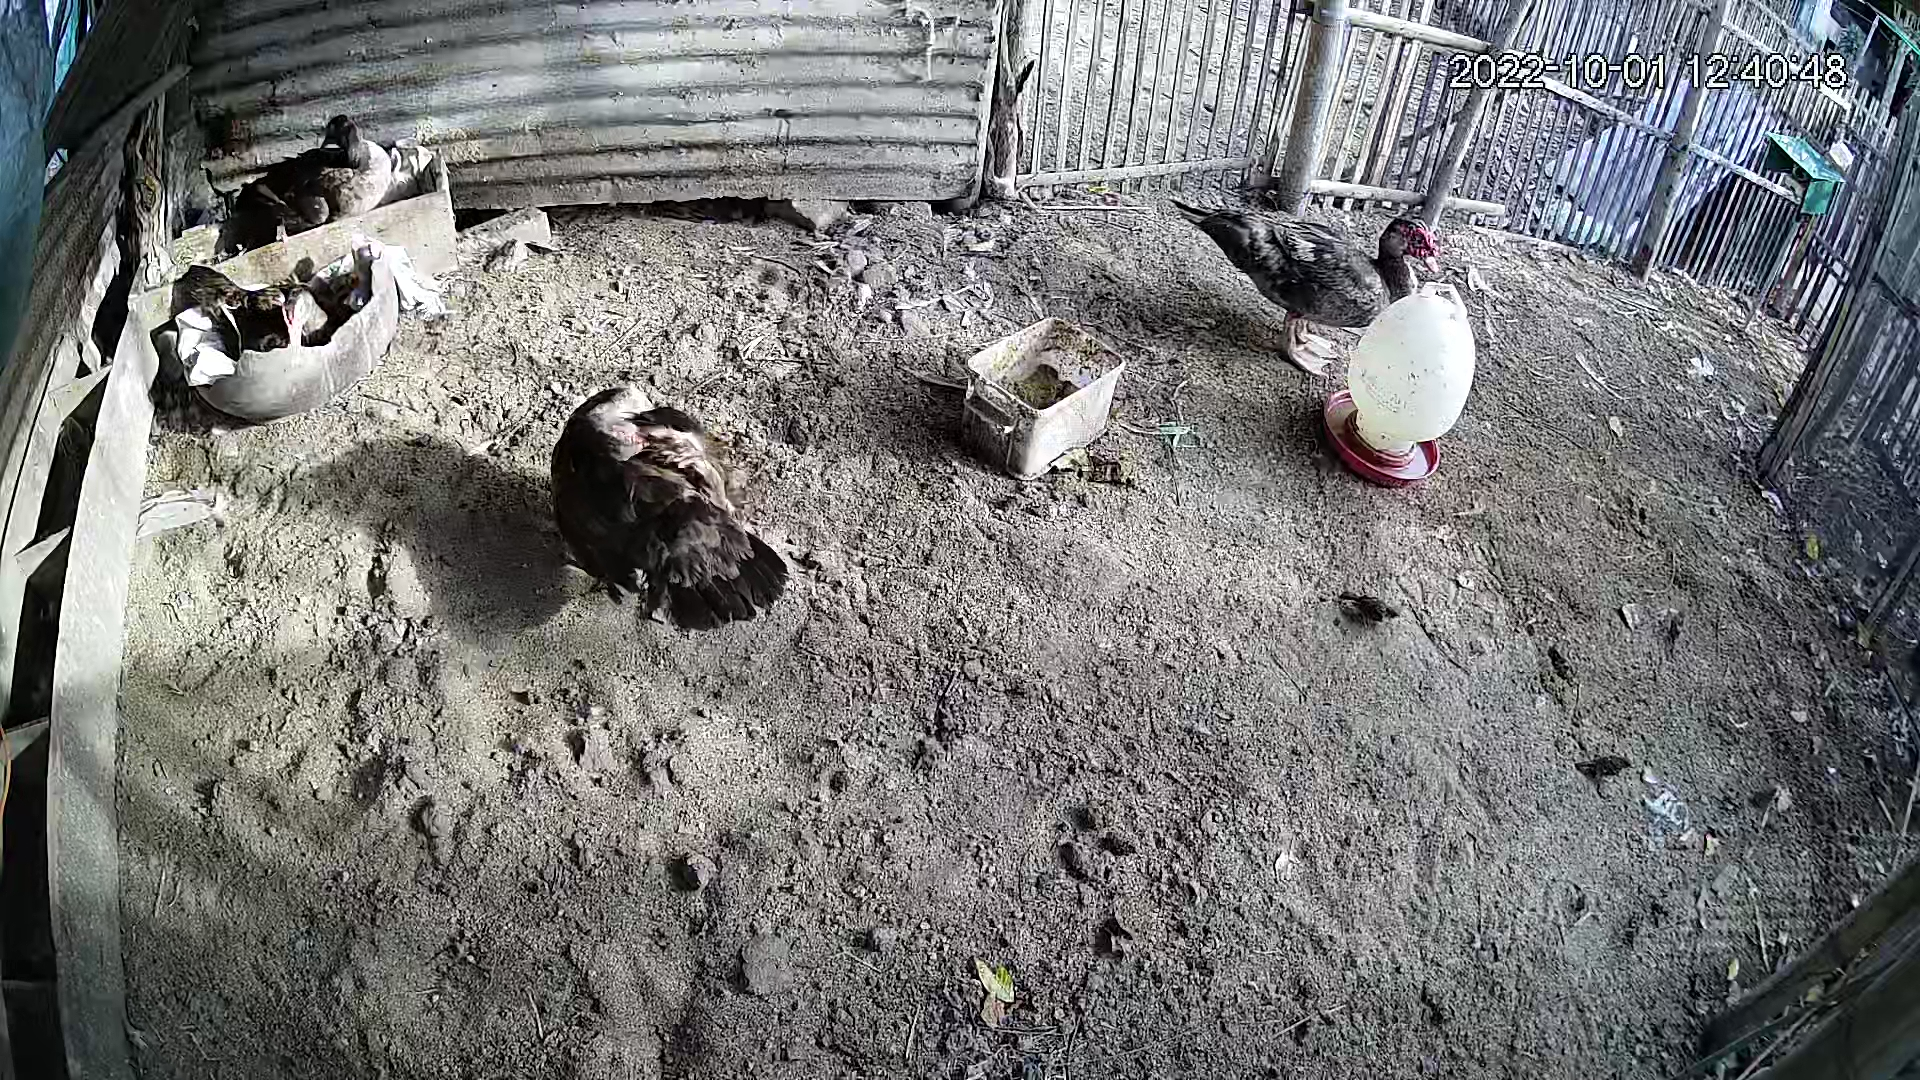Mengeram: (109, 92, 464, 435)
